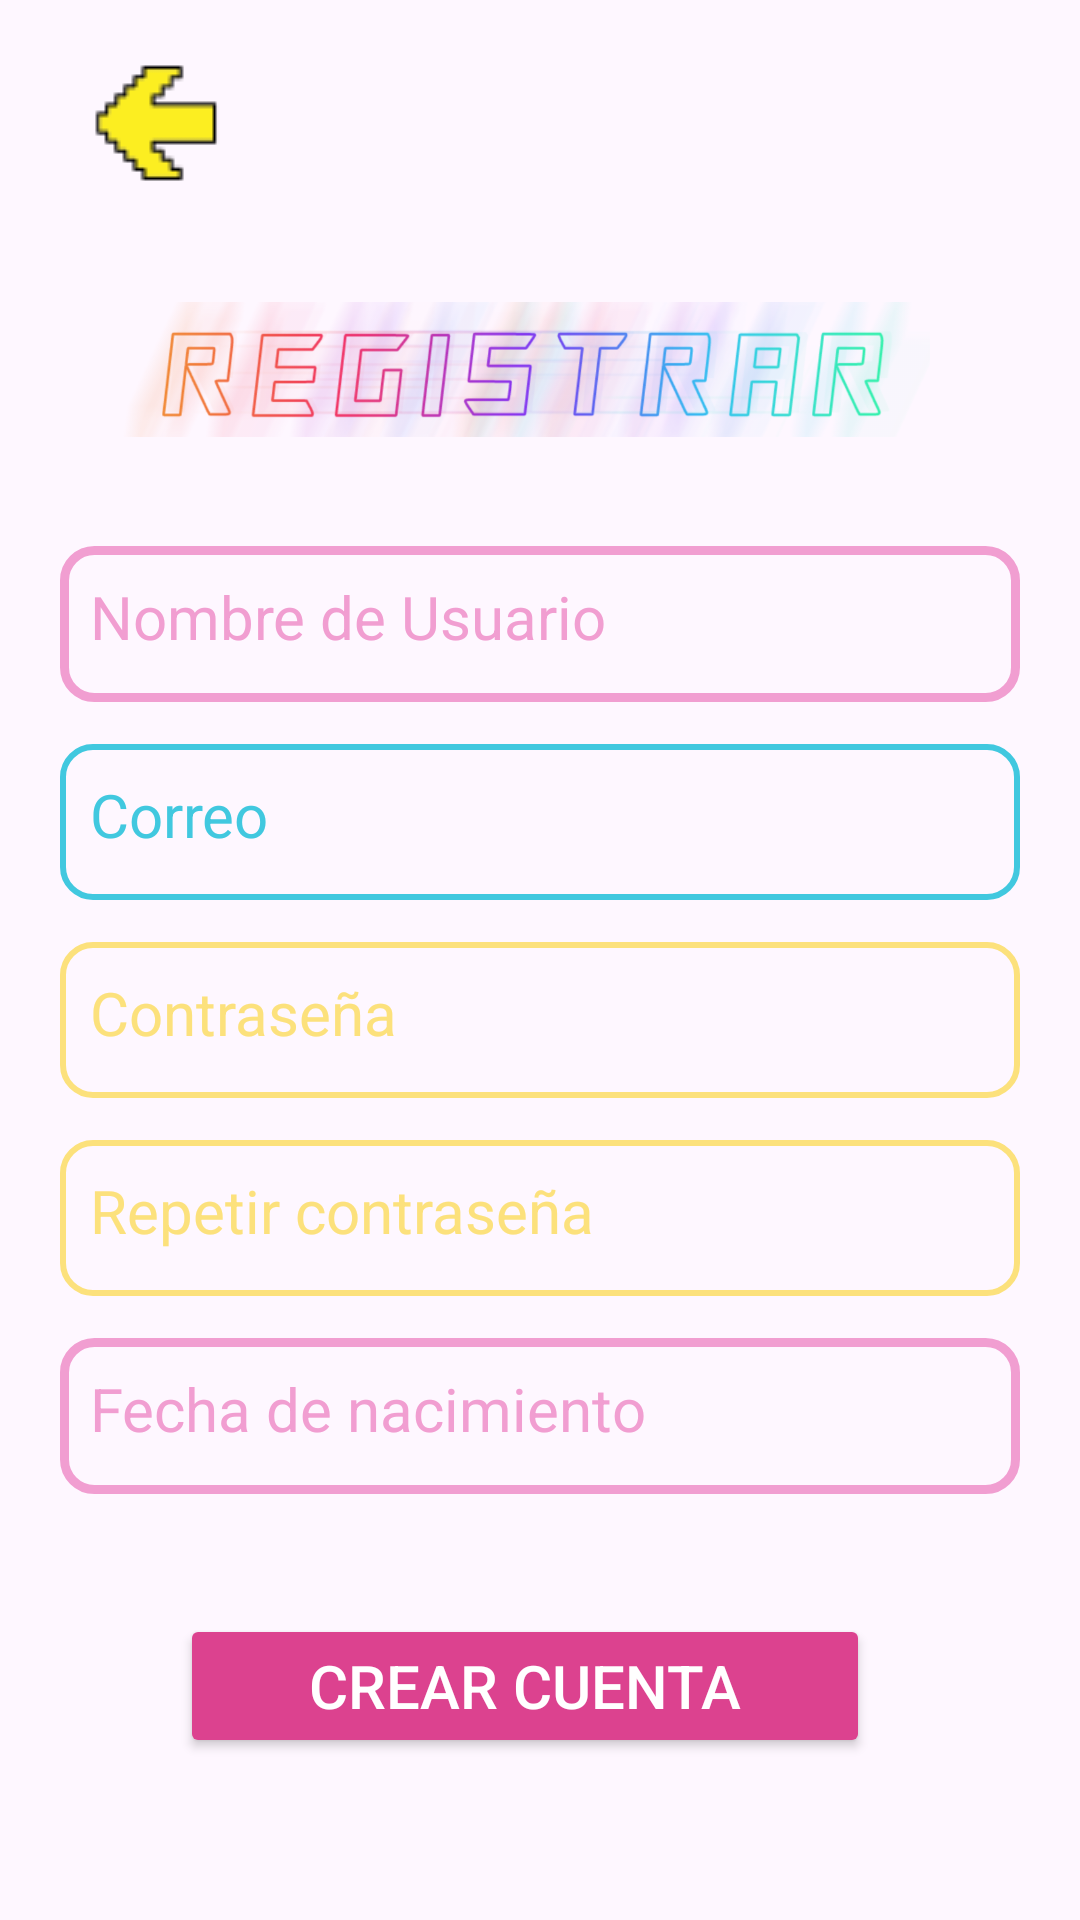

Icon bounding boxes for this 1080x1920 phone screenshot, format (x1, y1, x2, y2):
flecha: (95, 65, 217, 181)
